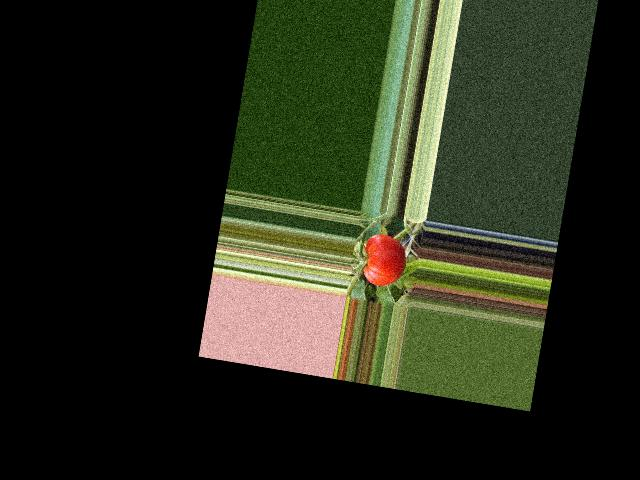tomato: (360, 231, 410, 289)
